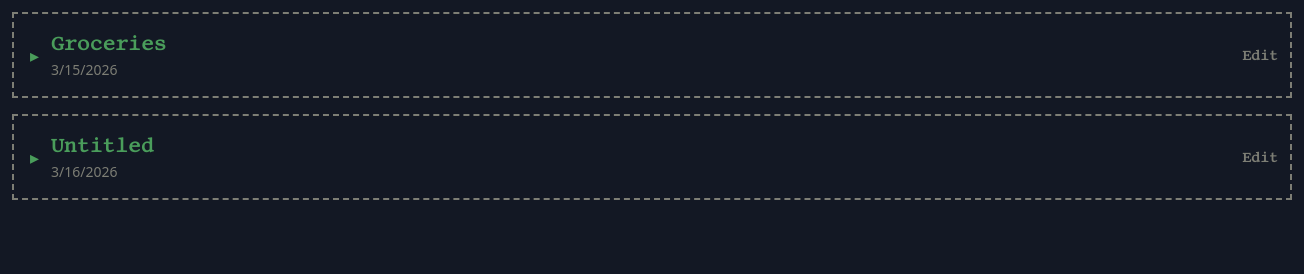
Test: NoteList › collapses an expanded note when clicked again
Click the text "Groceries" at (109, 44), box 51,30 -> 166,58
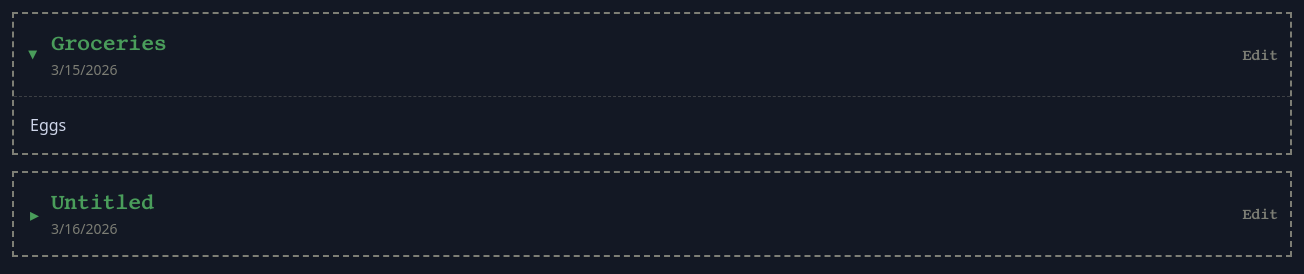
Click the text "Groceries" at (109, 44), box 51,30 -> 166,58
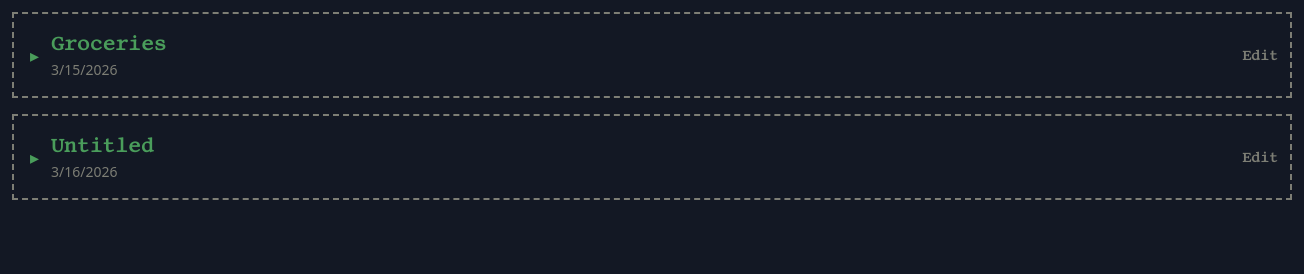
Check: the text "Eggs" is gone
